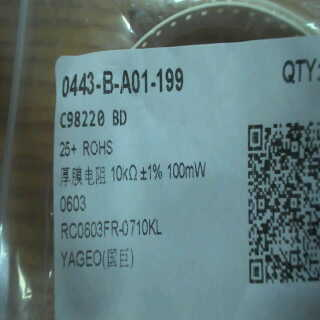10kR: (108, 163, 137, 184)
